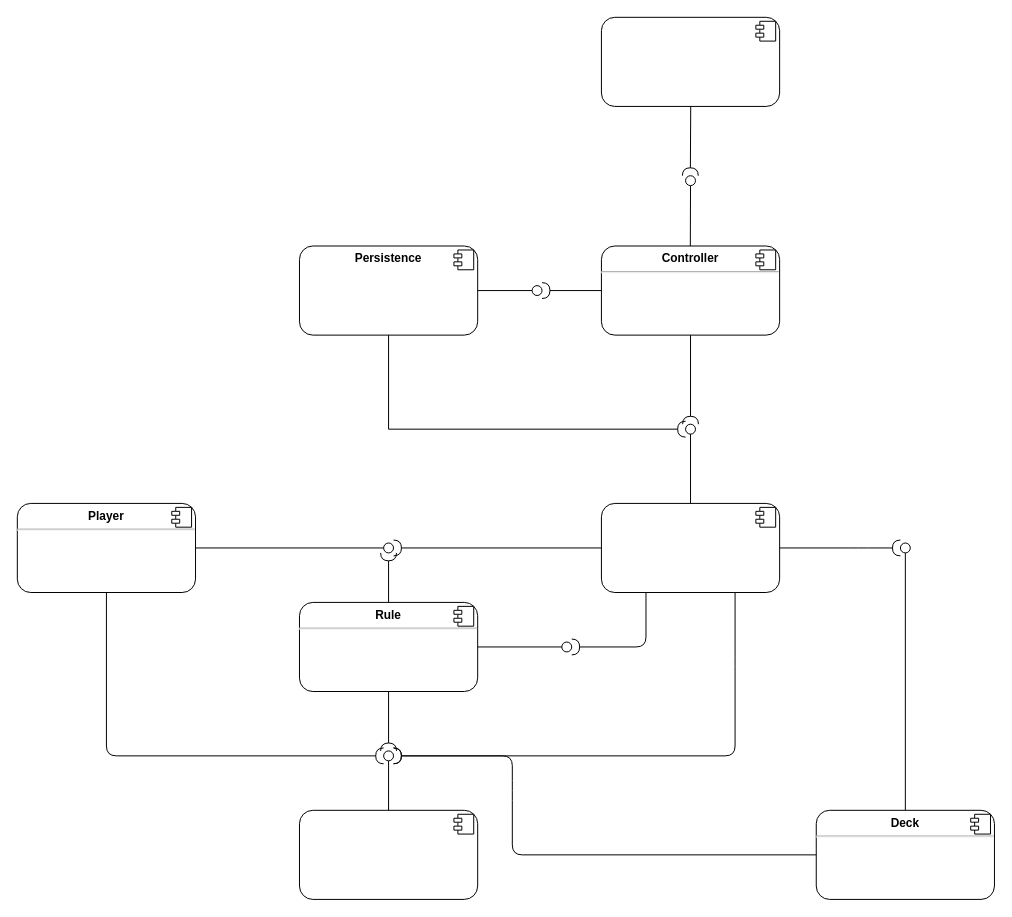
This 1012x917 diagram has some shape labels left out. The centre of each missing label's shape, as x and y in pixels:
Card: (388,854)
Game: (690,547)
GamePlay: (690,61)
